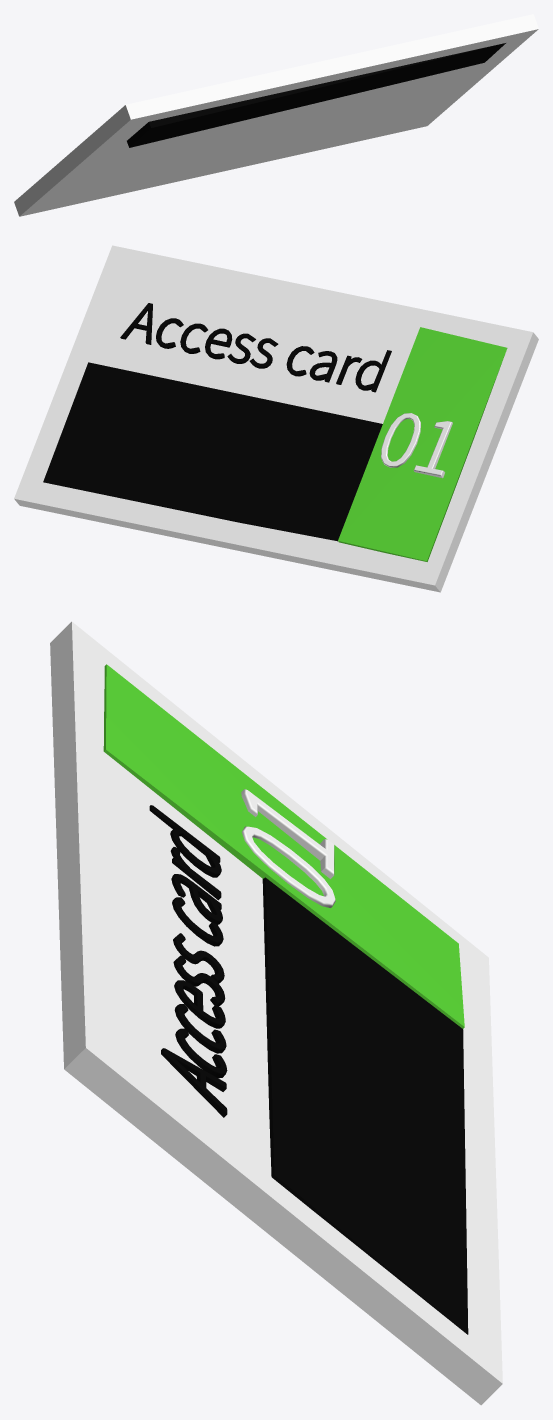
Rendered from Keycard Access L1.fbx.
3 renders of one model, top to bottom at view 1: azimuth 30°, elevation 25°; view 2: azimuth 150°, elevation 25°; view 3: azimuth 270°, elevation 25°, orthographic. The views are drawn at different scales.
Visible parts, largest first — view 1: c34da434-967c-4c1b-aaaf-93c23b4845b8; view 2: c34da434-967c-4c1b-aaaf-93c23b4845b8; view 3: c34da434-967c-4c1b-aaaf-93c23b4845b8.
Part boxes in pixels (x1,y1,x2,y2): c34da434-967c-4c1b-aaaf-93c23b4845b8: [14, 14, 538, 216]; c34da434-967c-4c1b-aaaf-93c23b4845b8: [14, 245, 538, 592]; c34da434-967c-4c1b-aaaf-93c23b4845b8: [50, 621, 502, 1405].
Bounding box in the file's own units: 14143 × 6283 × 6617.
